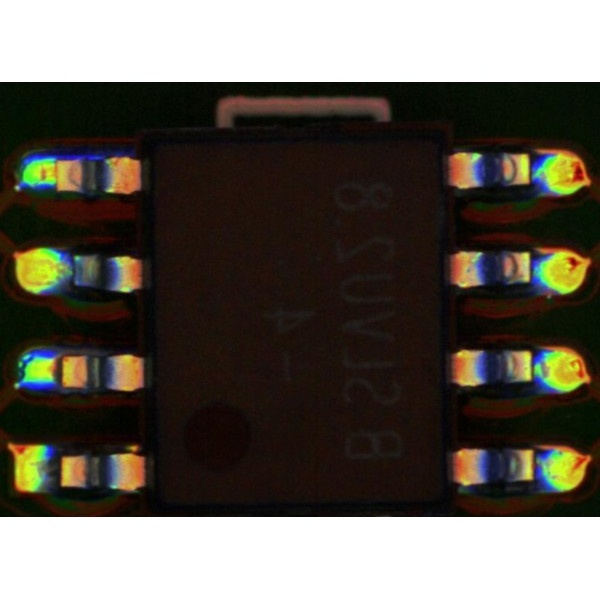Bad_podu: (47, 358, 71, 384), (37, 165, 76, 180)
